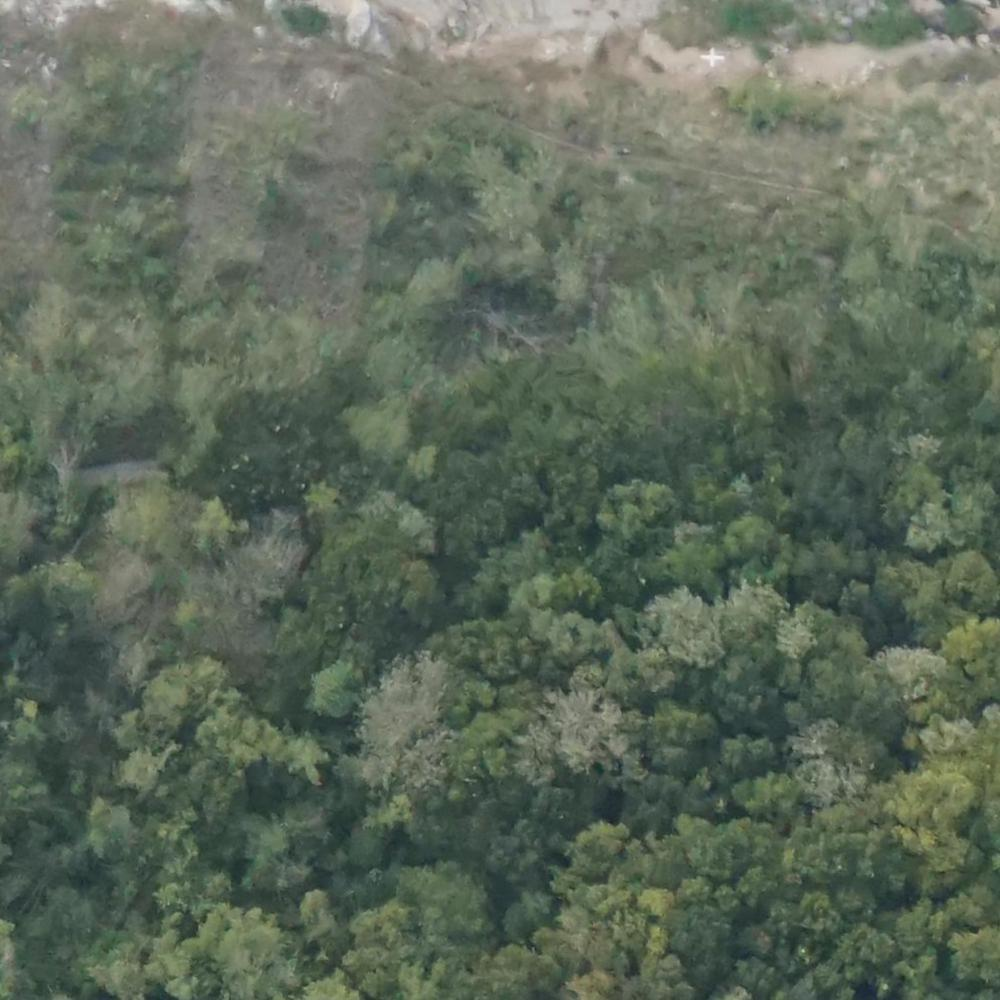tree: (791, 723, 874, 807), (561, 695, 629, 763), (659, 594, 725, 664), (878, 641, 939, 712), (114, 745, 169, 812), (663, 533, 719, 593), (348, 392, 397, 446), (411, 256, 457, 311), (724, 511, 773, 562), (655, 705, 699, 758), (954, 932, 1000, 982), (521, 729, 561, 786), (188, 503, 227, 554), (166, 596, 206, 640), (304, 661, 343, 705), (304, 484, 344, 526), (395, 504, 431, 545), (908, 505, 944, 544), (405, 446, 439, 483)
